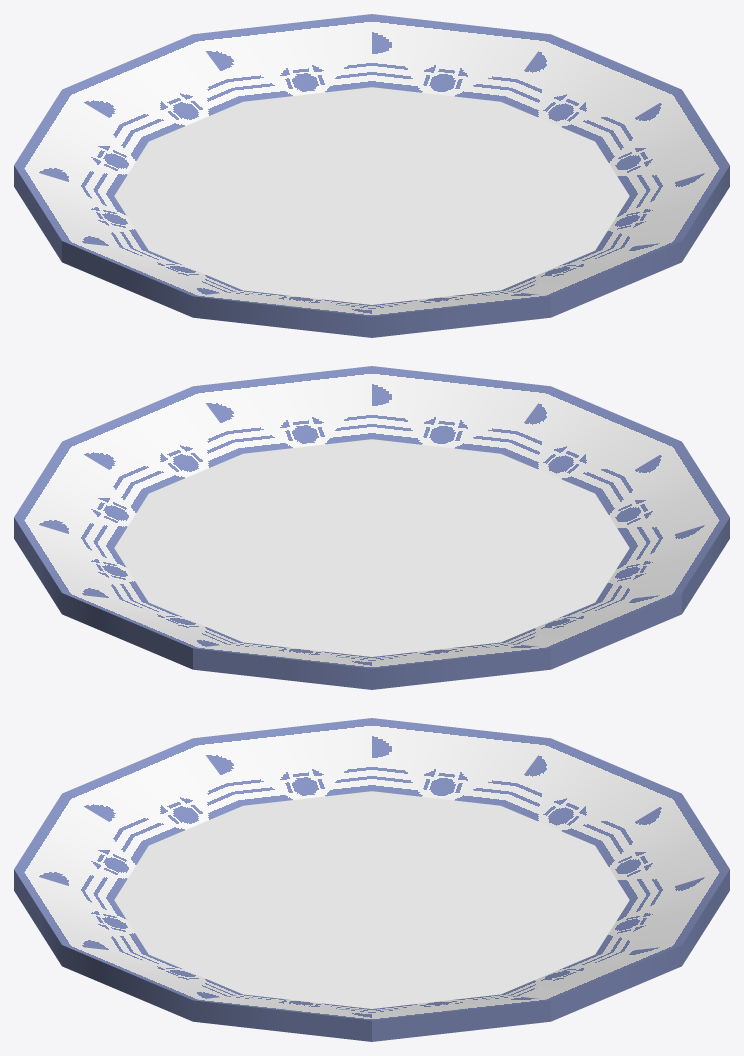
The model's file is plate.glb.
3 views of the same model, one above another, from view 1: azimuth 30°, elevation 25°; view 2: azimuth 150°, elevation 25°; view 3: azimuth 270°, elevation 25° (orthographic).
Parts seen in each view (by area): view 1: Circle; view 2: Circle; view 3: Circle.
Boxes of the visible parts, x1,y1,x2,y2 form: Circle: [14, 14, 729, 337]; Circle: [14, 366, 729, 689]; Circle: [14, 718, 729, 1041].
Bounding box in the file's own units: 28 × 2.25 × 28.
Materials: 1 (1 with a texture image).
